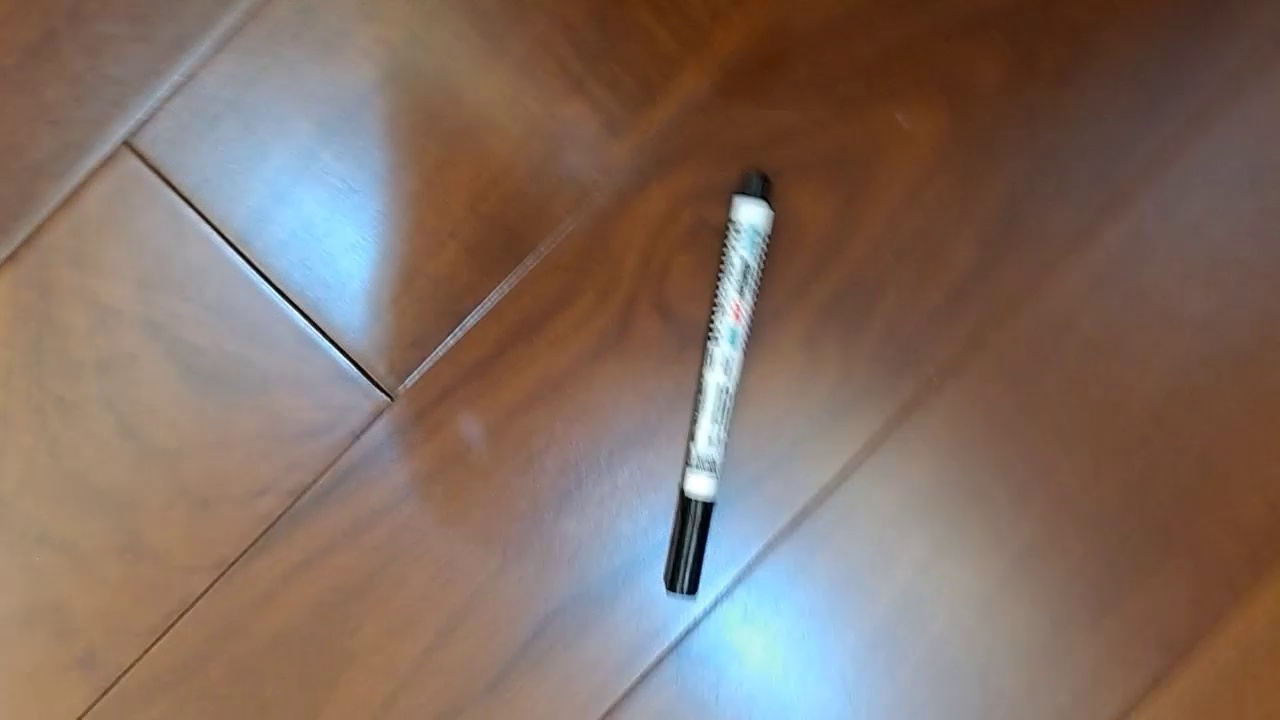pen: (662, 166, 776, 599)
